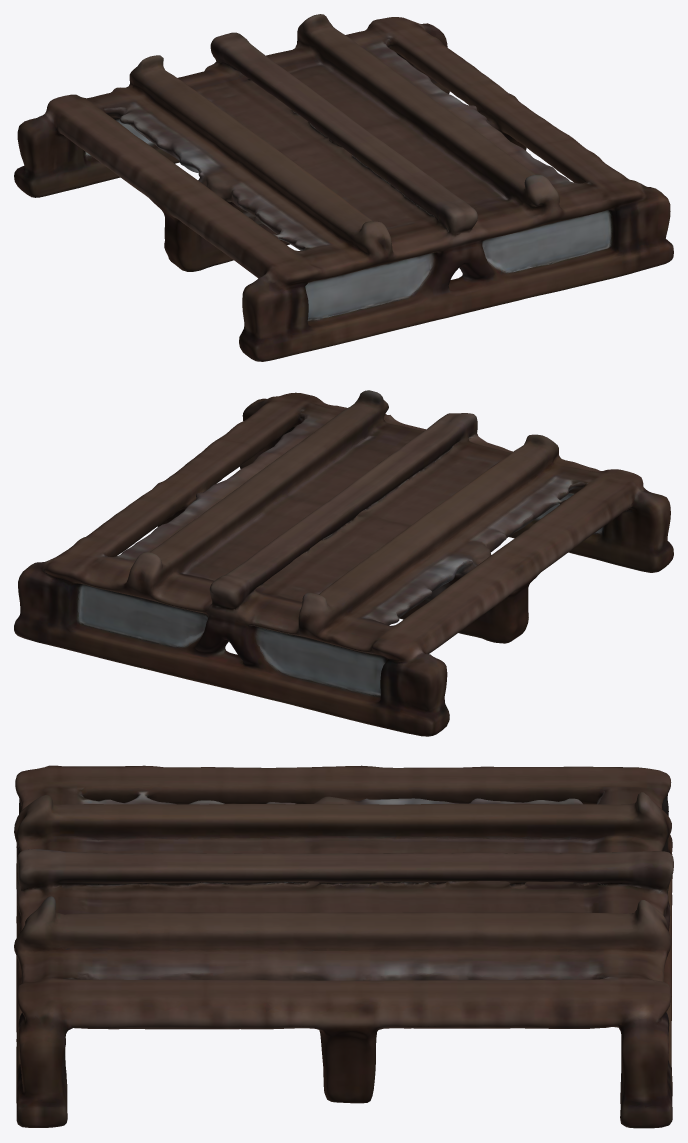
File: stand2.glb
The picture shows the model from 3 angles, top to bottom: view 1: azimuth 30°, elevation 25°; view 2: azimuth 150°, elevation 25°; view 3: azimuth 270°, elevation 25°; orthographic projection. The views are drawn at different scales.
Visible parts, largest first — view 1: world; view 2: world; view 3: world.
Part boxes in pixels (x1,y1,x2,y2): world: [14, 14, 673, 361]; world: [14, 390, 673, 736]; world: [14, 765, 673, 1128].
Size of the model in its own units: 0.4245 by 0.1075 by 0.4289.
1 material, 1 textured.
